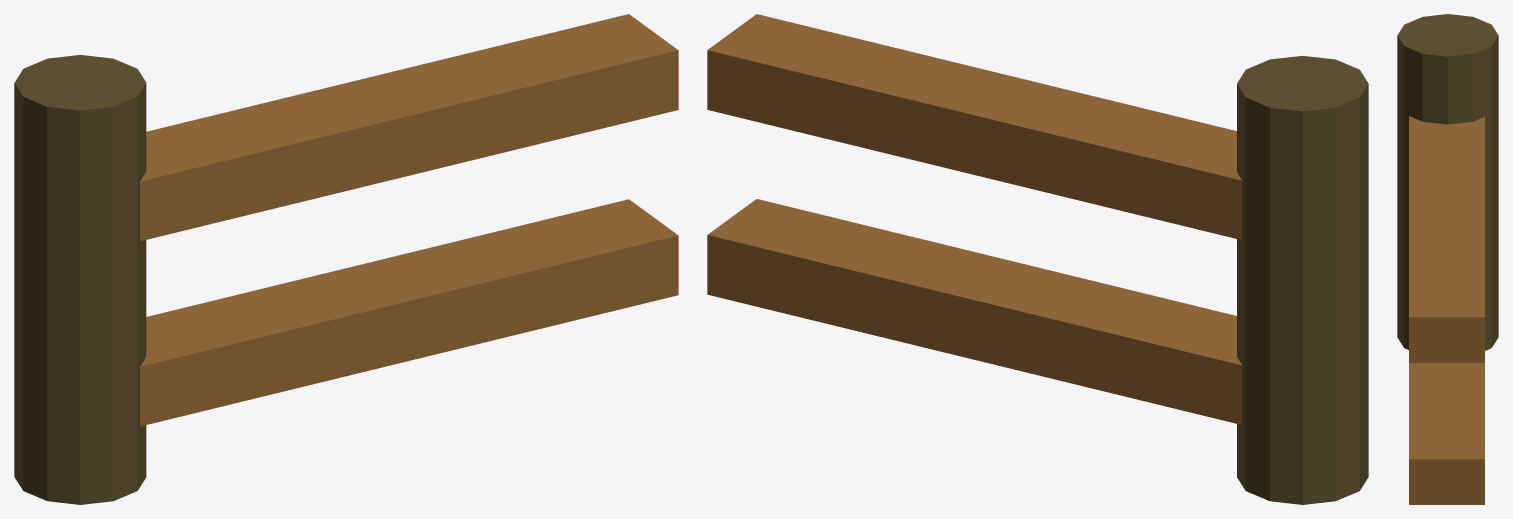
Rendered from FenceHalf.fbx.
The picture shows the model from 3 angles, left to right: view 1: azimuth 30°, elevation 25°; view 2: azimuth 150°, elevation 25°; view 3: azimuth 270°, elevation 25°; orthographic projection. The views are drawn at different scales.
Parts seen in each view (by area): view 1: Fence Post.002; view 2: Fence Post.002; view 3: Fence Post.002.
Boxes of the visible parts, bbox=[...] form: Fence Post.002: bbox=[14, 14, 678, 504]; Fence Post.002: bbox=[707, 14, 1368, 504]; Fence Post.002: bbox=[1397, 14, 1498, 504].
Bounding box in the file's own units: 275 × 165 × 50.
